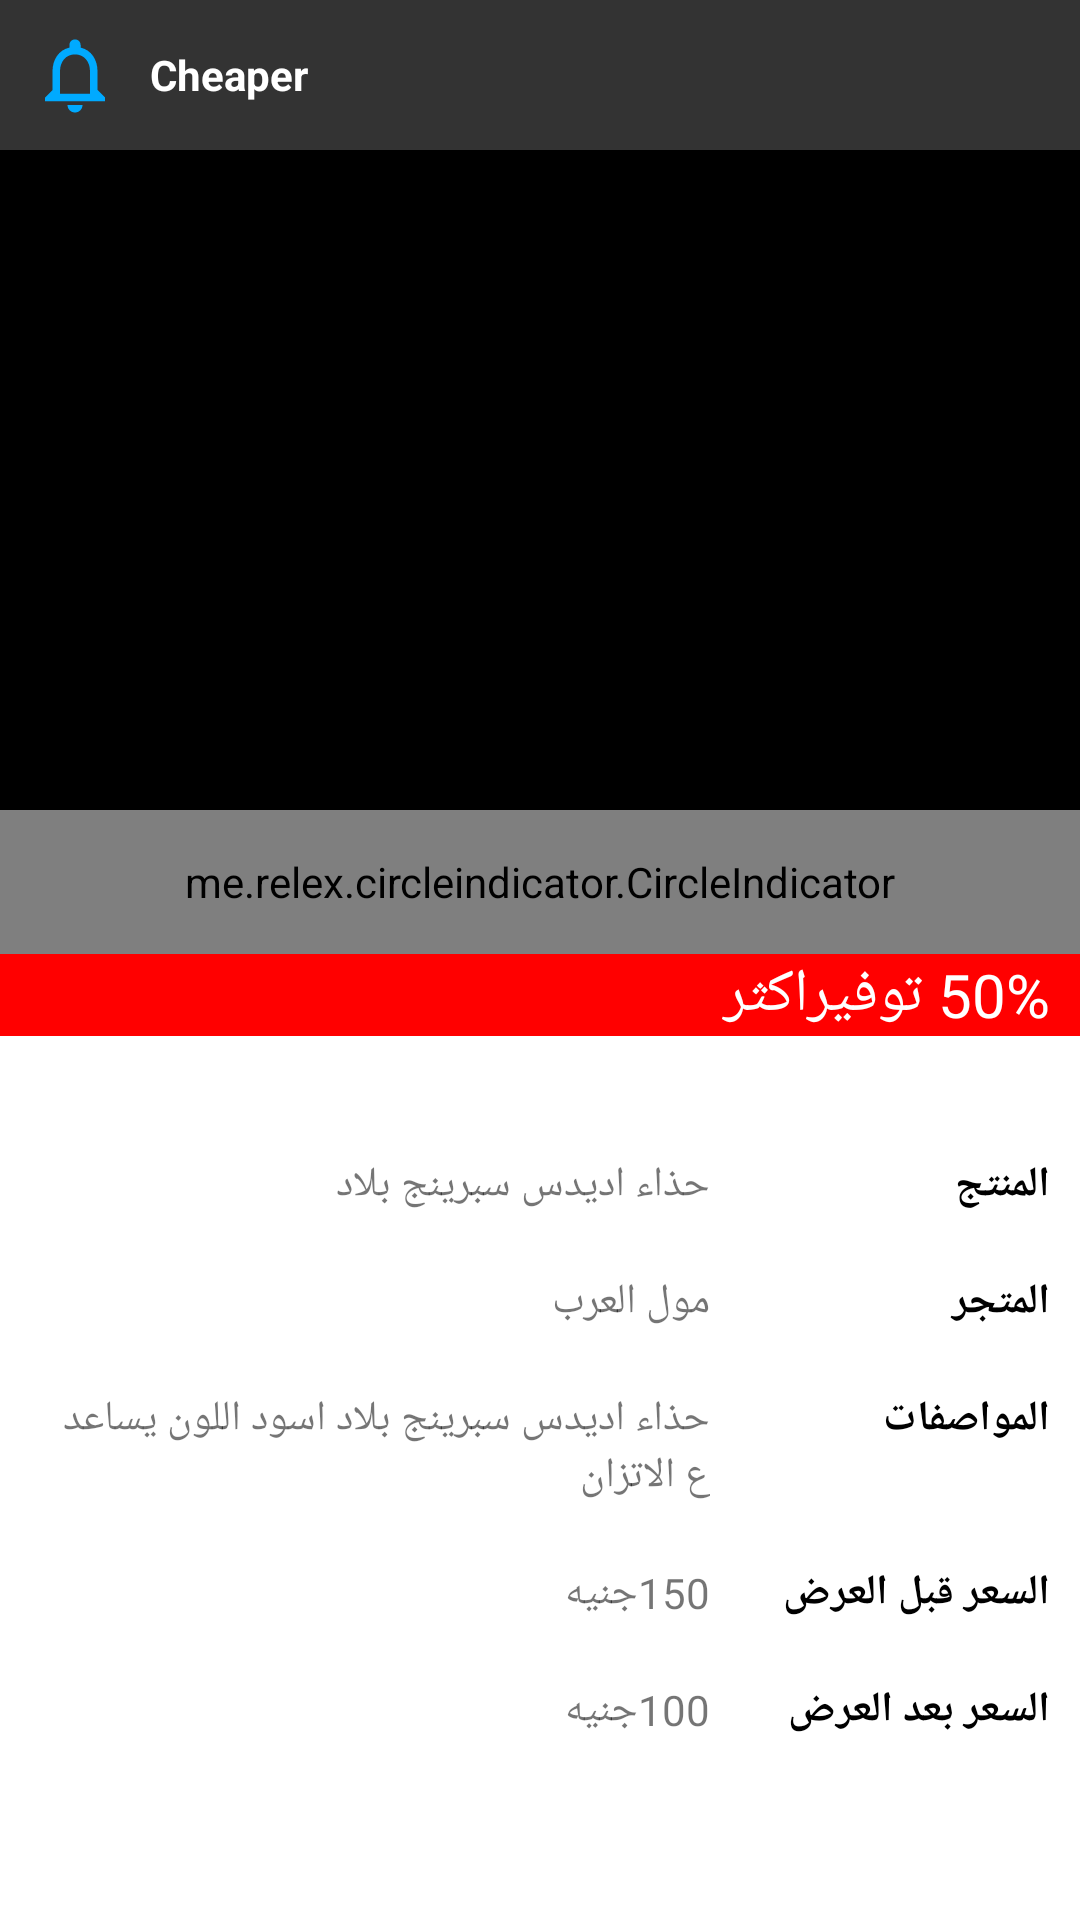

Screen size 1080x1920. Icon name, then its center in pixels as (x,y):
notifications none: (75,76)
